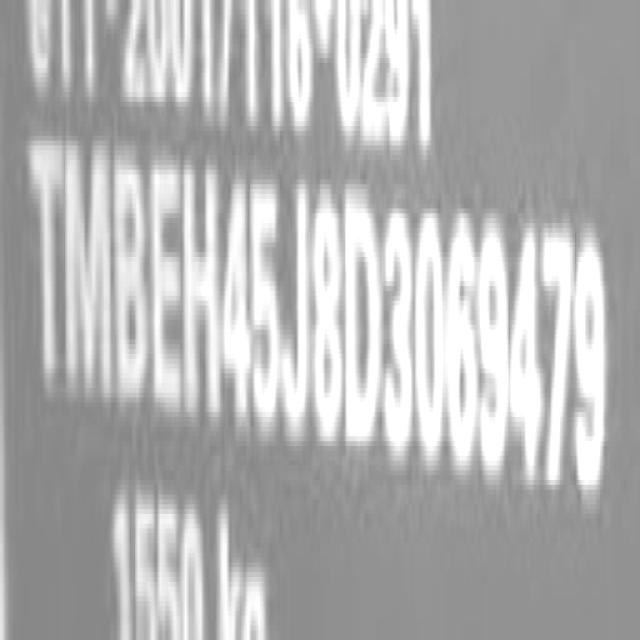0: (416, 208, 446, 470)
3: (386, 201, 416, 462)
4: (510, 216, 542, 493), (221, 166, 252, 436)
5: (252, 171, 283, 440)
6: (448, 203, 480, 478)
7: (544, 222, 576, 503)
8: (313, 186, 344, 446)
9: (575, 234, 608, 502), (478, 218, 509, 486)
B: (114, 146, 151, 412)
D: (342, 205, 382, 447)
E: (151, 152, 184, 422)
H: (186, 154, 225, 428)
J: (282, 173, 314, 444)
M: (64, 134, 115, 411)
T: (34, 134, 66, 411)
